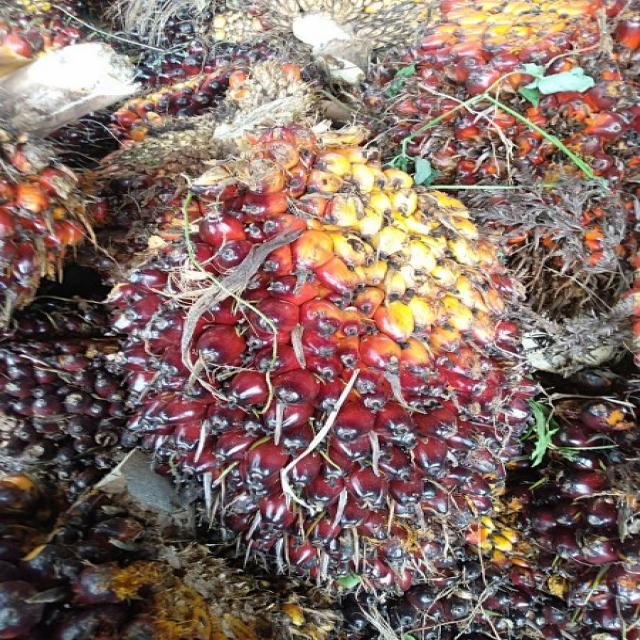fraksi 1: (94, 133, 544, 594)
